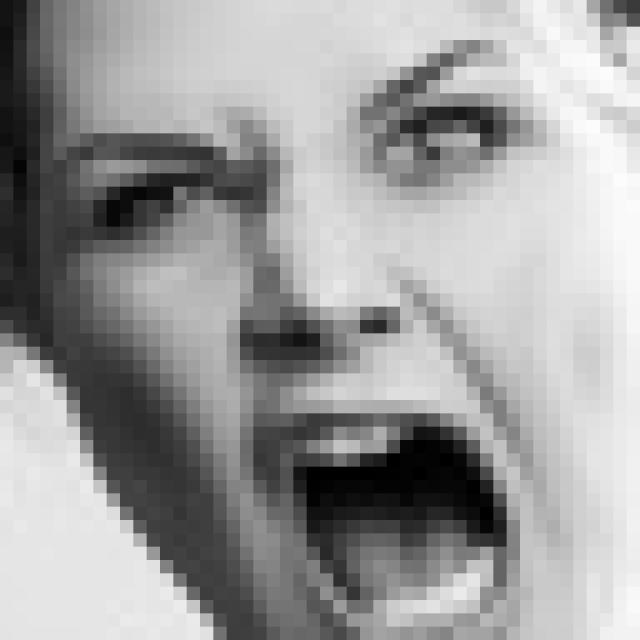angry: (68, 31, 539, 638)
